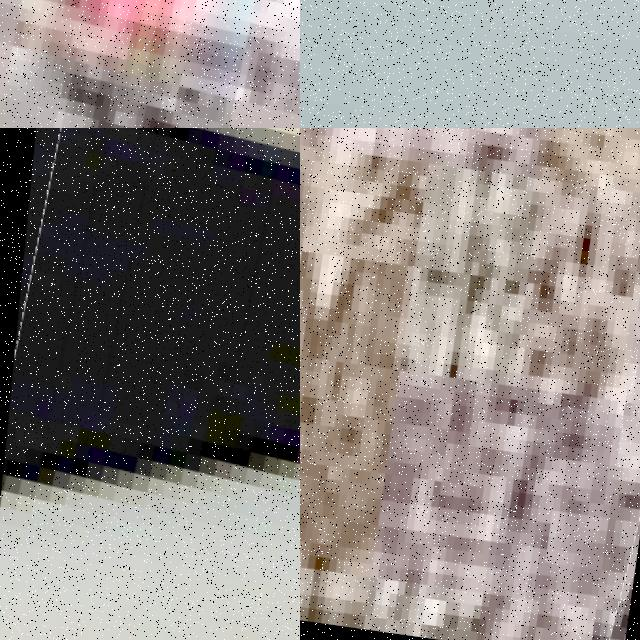drone: (0, 128, 300, 640), (0, 0, 300, 128)
